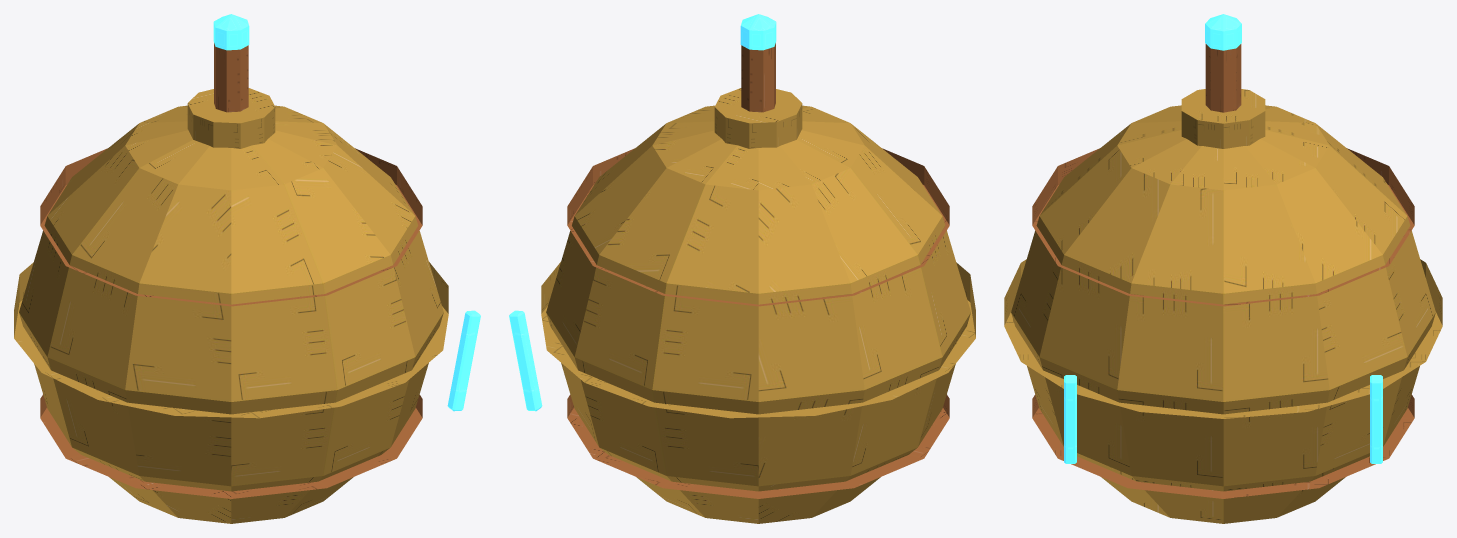
The model's file is storm.glb.
3 renders of one model, left to right at view 1: azimuth 30°, elevation 25°; view 2: azimuth 150°, elevation 25°; view 3: azimuth 270°, elevation 25°, orthographic.
Visible parts, largest first — view 1: body, fuse; view 2: body, fuse; view 3: body, fuse.
Boxes of the visible parts, x1,y1,x2,y2 form: body: (14,88,480,523); fuse: (213,14,249,112); body: (509,88,975,523); fuse: (740,14,776,112); body: (1004,89,1442,523); fuse: (1205,14,1241,112).
Size of the model in its own units: 0.2683 by 0.3314 by 0.2683.
Materials: 3 (3 with a texture image).
